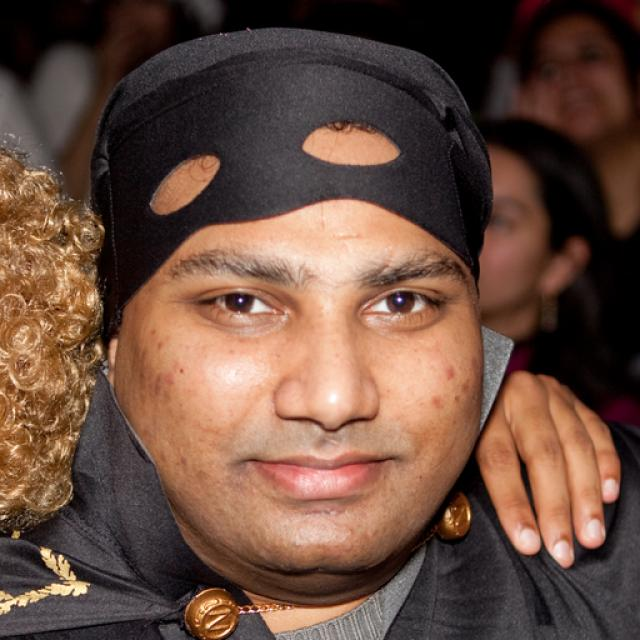Acne: (280, 526, 314, 553), (244, 542, 271, 565), (325, 499, 345, 522), (243, 482, 263, 504), (310, 517, 330, 538), (340, 523, 356, 541)
Spots: (137, 368, 176, 408), (165, 359, 196, 385), (425, 393, 448, 416), (437, 361, 458, 384), (457, 371, 473, 401), (171, 458, 192, 476), (150, 338, 170, 356), (450, 390, 467, 411)
